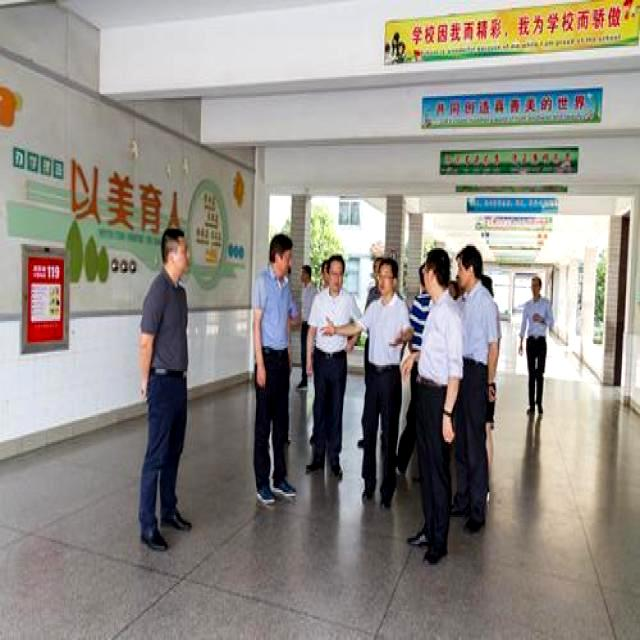no_head_wear: (376, 264, 410, 522), (325, 254, 344, 299), (458, 246, 483, 277), (428, 248, 447, 286), (164, 229, 186, 256), (379, 259, 396, 286), (278, 236, 291, 254), (532, 275, 545, 292), (305, 265, 311, 283)
person: (138, 229, 191, 548), (408, 248, 462, 561), (351, 258, 410, 505), (451, 246, 499, 530), (253, 234, 298, 504), (306, 256, 358, 477), (518, 277, 553, 413), (410, 246, 433, 350), (298, 265, 315, 388)
